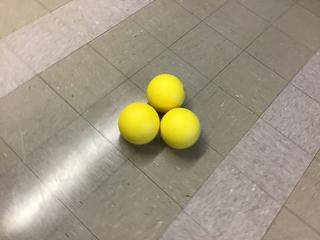power_cell: (159, 108, 204, 151), (119, 102, 160, 146), (146, 72, 189, 111)
